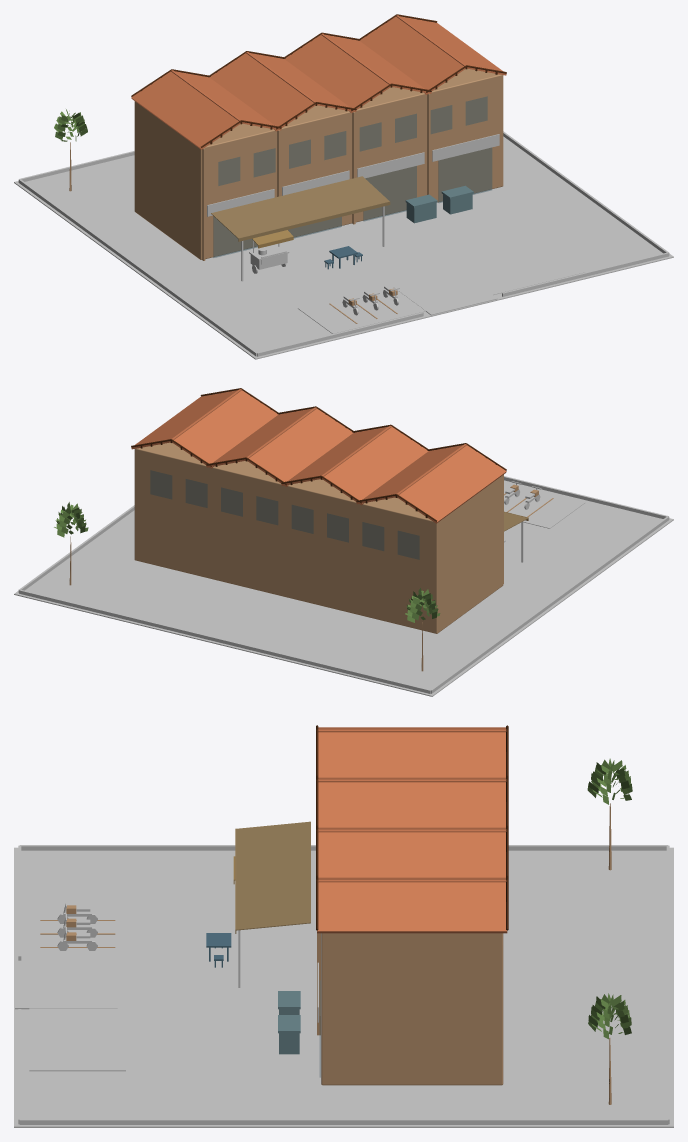
The model's file is com.block_0_1@central.gltf.
3 renders of one model, top to bottom at view 1: azimuth 30°, elevation 25°; view 2: azimuth 150°, elevation 25°; view 3: azimuth 270°, elevation 25°, orthographic. The views are drawn at different scales.
Parts seen in each view (by area): view 1: com.block_0_1/road-concrete:a6aba6, com.block_0_1/wood_teak#bd9670, com.block_0_1/roof_clay_tile#d27c52, com.block_0_1/glass_tinted, com.block_0_1/vertex-finish-fabric_canvas:ffffff, com.block_0_1/sign_thai:atlas:[{"text":"ของชำบ้านไม้","size", com.block_0_1/metal_steel#343a3b, com.block_0_1/foliage_tropical#668949; view 2: com.block_0_1/wood_teak#bd9670, com.block_0_1/road-concrete:a6aba6, com.block_0_1/roof_clay_tile#d27c52, com.block_0_1/glass_tinted, com.block_0_1/foliage_tropical#668949, com.block_0_1/metal_steel#343a3b; view 3: com.block_0_1/road-concrete:a6aba6, com.block_0_1/roof_clay_tile#d27c52, com.block_0_1/wood_teak#bd9670, com.block_0_1/vertex-finish-fabric_canvas:ffffff, com.block_0_1/foliage_tropical#668949, com.block_0_1/metal_steel#343a3b.
Part boxes in pixels (x1,y1,x2,y2): com.block_0_1/road-concrete:a6aba6: (14,131,673,359); com.block_0_1/wood_teak#bd9670: (69,14,506,323); com.block_0_1/roof_clay_tile#d27c52: (131,15,506,149); com.block_0_1/glass_tinted: (213,96,492,257); com.block_0_1/vertex-finish-fabric_canvas:ffffff: (211,176,473,269); com.block_0_1/sign_thai:atlas:[{"text":"ของชำบ้านไม้","size": (207,134,499,264); com.block_0_1/metal_steel#343a3b: (241,206,399,315); com.block_0_1/foliage_tropical#668949: (54,109,87,141); com.block_0_1/wood_teak#bd9670: (69,388,553,671); com.block_0_1/road-concrete:a6aba6: (14,476,673,696); com.block_0_1/roof_clay_tile#d27c52: (131,389,506,523); com.block_0_1/glass_tinted: (150,470,419,559); com.block_0_1/foliage_tropical#668949: (54,502,440,622); com.block_0_1/metal_steel#343a3b: (504,481,541,562); com.block_0_1/road-concrete:a6aba6: (14,845,673,1127); com.block_0_1/roof_clay_tile#d27c52: (317,727,507,933); com.block_0_1/wood_teak#bd9670: (40,725,611,1104); com.block_0_1/vertex-finish-fabric_canvas:ffffff: (206,821,310,1054); com.block_0_1/foliage_tropical#668949: (587,758,632,1039); com.block_0_1/metal_steel#343a3b: (57,900,240,987).
Bounding box in the file's own units: 29 × 8.92 × 29.
